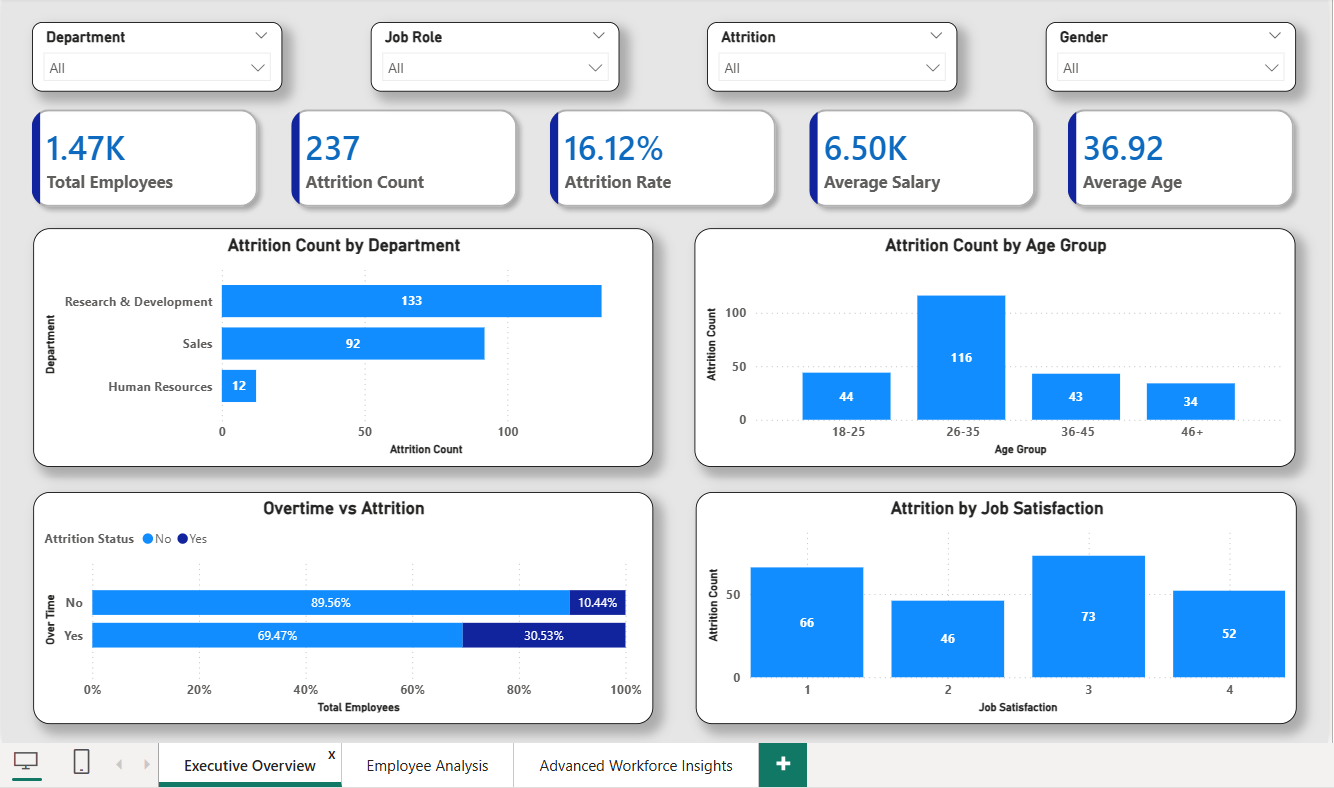

This screenshot's page, from the dashboard's own definition file:
{"tool":"powerbi","page":{"name":"Executive Overview","canvas":[1280,720],"ordinal":0},"visuals":[{"type":"cardVisual","fields":{"Data":["CountNonNull(IBM HR Analytics Employee Attri.Employee ID)","IBM HR Analytics.Attrition Count","IBM HR Analytics.Attrition Rate","Avg(IBM HR Analytics.Monthly Income)","Avg(IBM HR Analytics.Age)"]},"box":[0,79.6,1280,152],"z":0},{"type":"clusteredBarChart","fields":{"Y":["IBM HR Analytics.Attrition Count"],"Category":["IBM HR Analytics.Department"]},"box":[30.2,223.2,598.4,230.4],"z":1000},{"type":"clusteredColumnChart","fields":{"Category":["IBM HR Analytics.Age Group"],"Y":["IBM HR Analytics.Attrition Count"]},"box":[668.4,223.2,580.3,230.4],"z":2000},{"type":"hundredPercentStackedBarChart","title":"Overtime vs Attrition","fields":{"Category":["IBM HR Analytics.Over Time"],"Series":["IBM HR Analytics.Attrition"],"Y":["IBM HR Analytics.Total Employees"]},"box":[30.2,477.8,598.4,224.4],"z":3000},{"type":"clusteredColumnChart","title":"Attrition by Job Satisfaction","fields":{"Category":["IBM HR Analytics.Job Satisfaction"],"Y":["IBM HR Analytics.Attrition Count"]},"box":[669.6,477.8,580.3,224.4],"z":4000},{"type":"slicer","fields":{"Values":["IBM HR Analytics.Department"]},"box":[29,24.1,241.3,67.6],"z":5000},{"type":"slicer","fields":{"Values":["IBM HR Analytics.Job Role"]},"box":[355.5,24.1,240.1,67.6],"z":6000},{"type":"slicer","fields":{"Values":["IBM HR Analytics.Gender"]},"box":[1007.4,24.1,241.3,67.6],"z":7000},{"type":"slicer","fields":{"Values":["IBM HR Analytics.Attrition"]},"box":[680.8,24.1,241.3,67.6],"z":8000}]}

Visuals, with their boxes in screenshot pixels (x1, y1, x2, y2):
cardVisual - CountNonNull(IBM HR Analytics Employee Attri.Employee ID) x IBM HR Analytics.Attrition Count: crop(3, 78, 1319, 235)
clusteredBarChart - IBM HR Analytics.Attrition Count x IBM HR Analytics.Department: crop(35, 226, 650, 463)
clusteredColumnChart - IBM HR Analytics.Age Group x IBM HR Analytics.Attrition Count: crop(690, 226, 1287, 463)
"Overtime vs Attrition" hundredPercentStackedBarChart: crop(35, 488, 650, 718)
"Attrition by Job Satisfaction" clusteredColumnChart: crop(692, 488, 1288, 718)
slicer - IBM HR Analytics.Department: crop(33, 21, 281, 91)
slicer - IBM HR Analytics.Job Role: crop(369, 21, 616, 91)
slicer - IBM HR Analytics.Gender: crop(1039, 21, 1287, 91)
slicer - IBM HR Analytics.Attrition: crop(703, 21, 951, 91)
